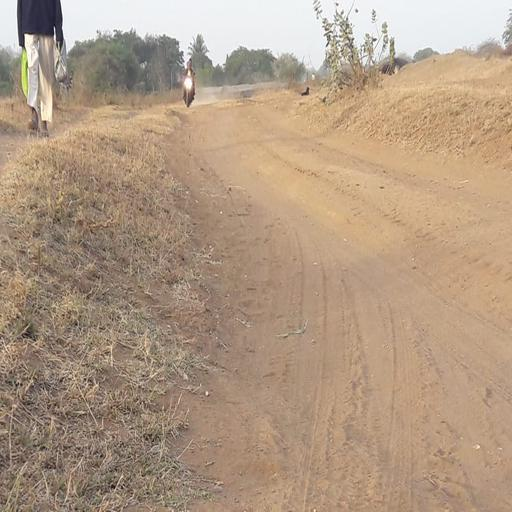vehicle_track: (181, 99, 509, 512)
